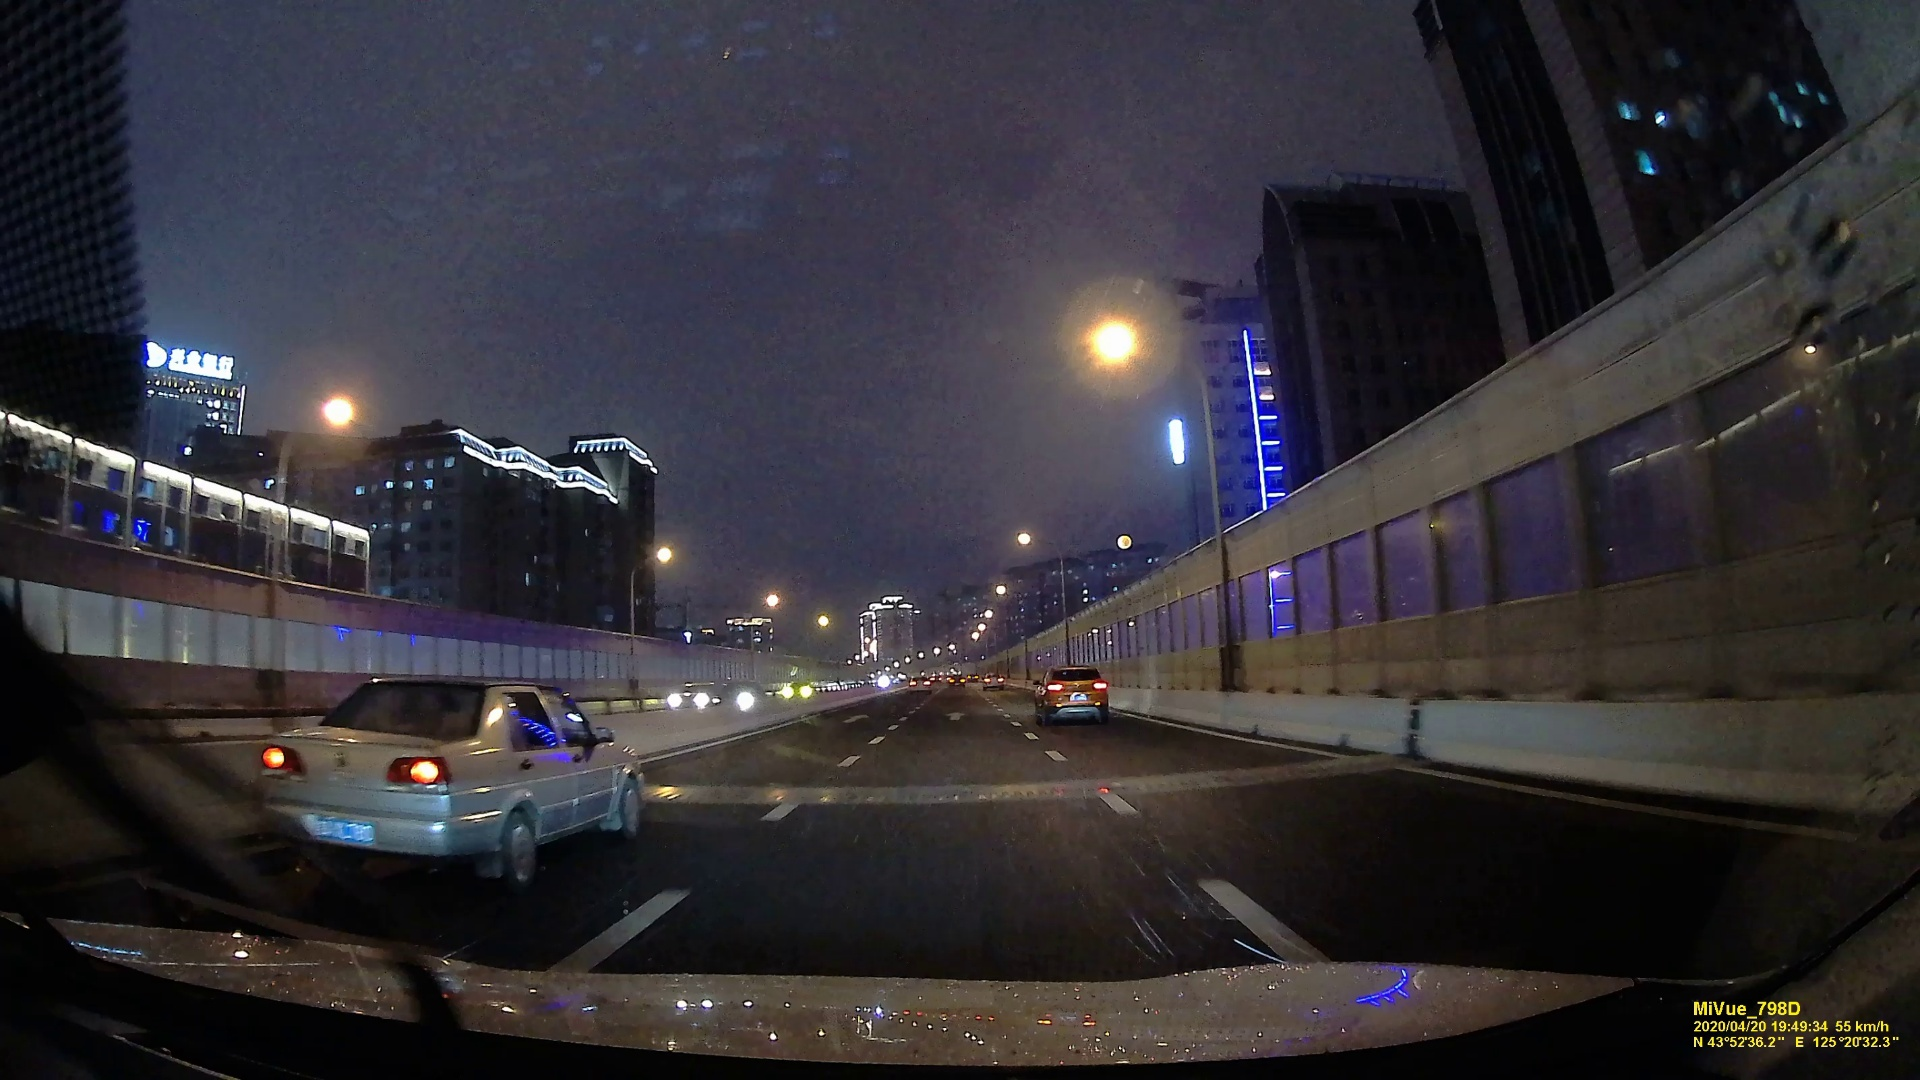vehicle: (249, 675, 646, 891), (1035, 665, 1110, 725), (667, 684, 720, 712), (779, 680, 814, 699), (909, 675, 932, 694), (982, 673, 1005, 691)
